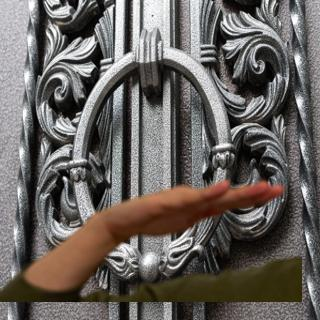WAIT: (100, 176, 286, 240)
